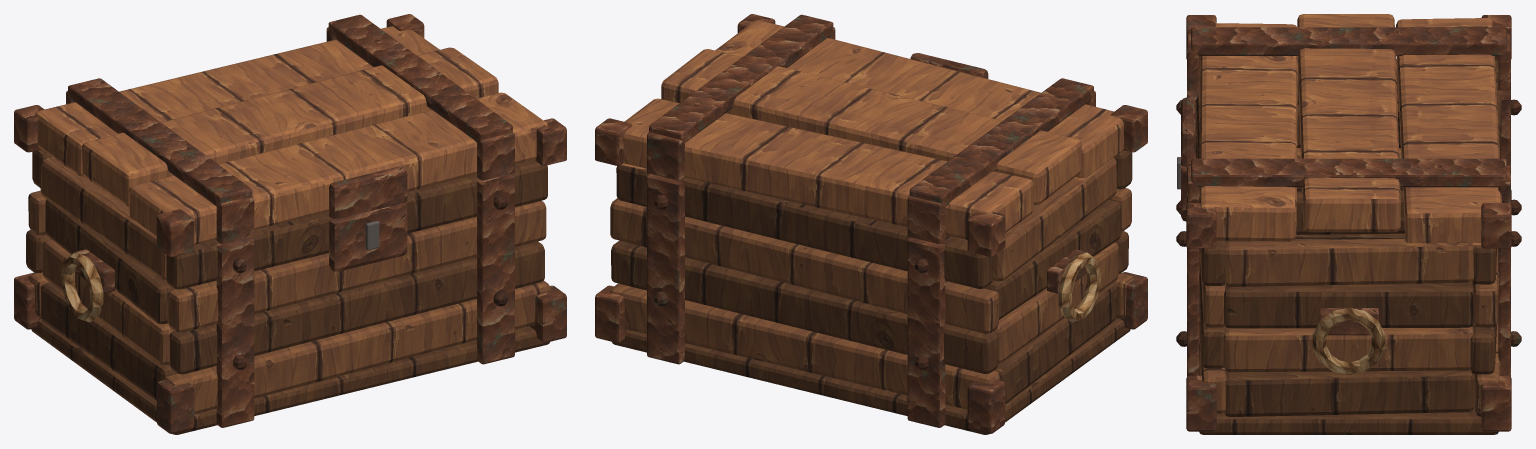
The model's file is chest_small.glb.
3 views of the same model, side by side, from view 1: azimuth 30°, elevation 25°; view 2: azimuth 150°, elevation 25°; view 3: azimuth 270°, elevation 25° (orthographic). The views are drawn at different scales.
Parts seen in each view (by area): view 1: model, lid; view 2: model, lid; view 3: lid, model.
Boxes of the visible parts, x1=… form: model: x1=14, y1=149, x2=566, y2=434; lid: x1=14, y1=14, x2=566, y2=256; model: x1=595, y1=150, x2=1147, y2=434; lid: x1=595, y1=14, x2=1147, y2=256; lid: x1=1181, y1=14, x2=1511, y2=248; model: x1=1176, y1=58, x2=1521, y2=434.
Bounding box in the file's own units: 1.01 × 0.53 × 0.6876.
8 materials, 7 textured.
